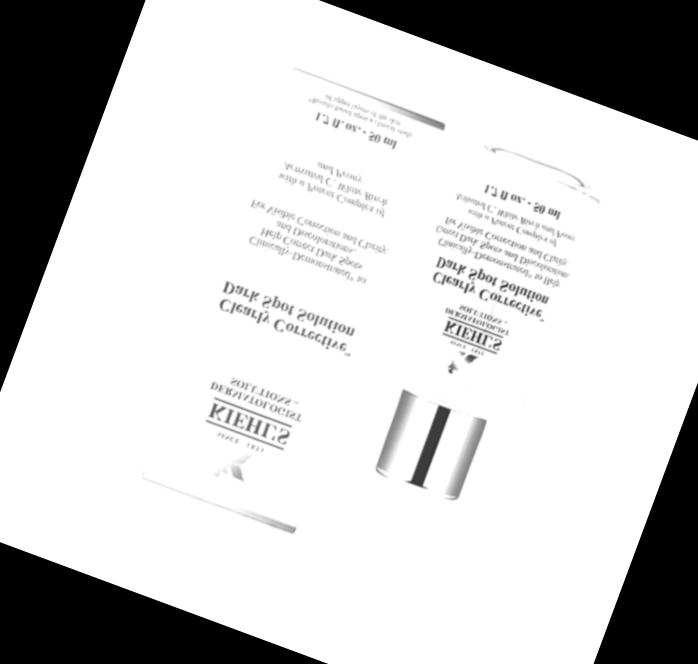cosmetic: (328, 150, 599, 584)
